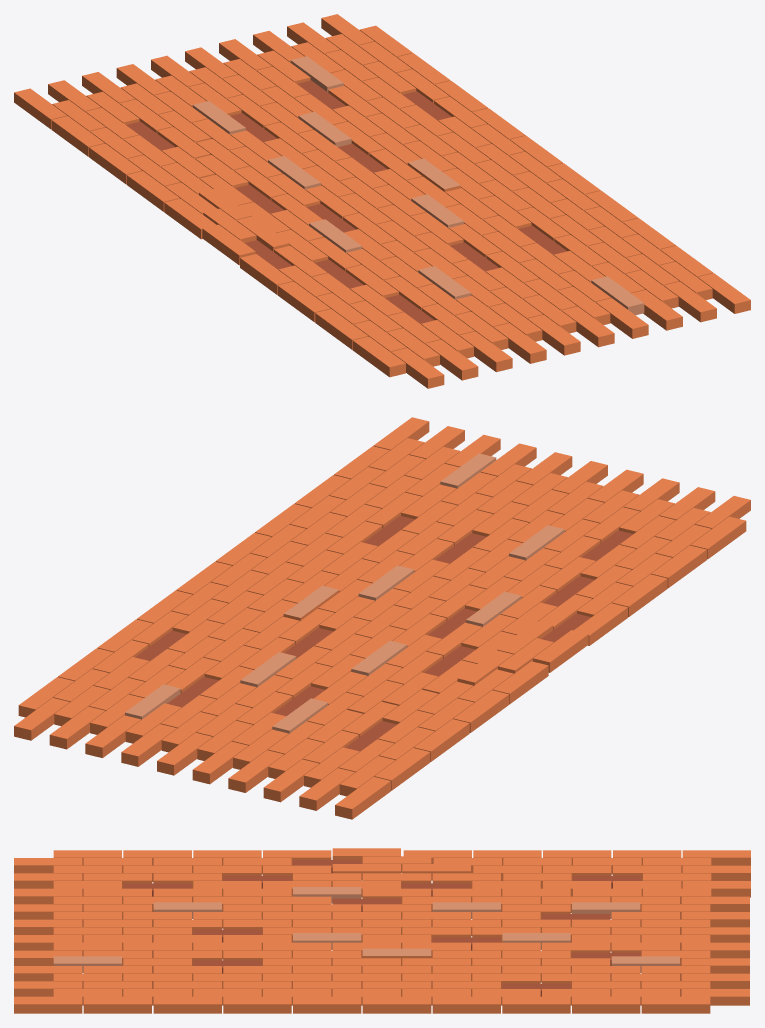
File: Floor.fbx
The picture shows the model from 3 angles, top to bottom: view 1: azimuth 30°, elevation 25°; view 2: azimuth 150°, elevation 25°; view 3: azimuth 270°, elevation 25°; orthographic projection. The views are drawn at different scales.
Parts seen in each view (by area): view 1: Cube.002; view 2: Cube.002; view 3: Cube.002.
Boxes of the visible parts, x1,y1,x2,y2 form: Cube.002: [14, 14, 750, 388]; Cube.002: [14, 417, 750, 819]; Cube.002: [14, 848, 750, 1013].
Size of the model in its own units: 1621 by 66.03 by 3279.
